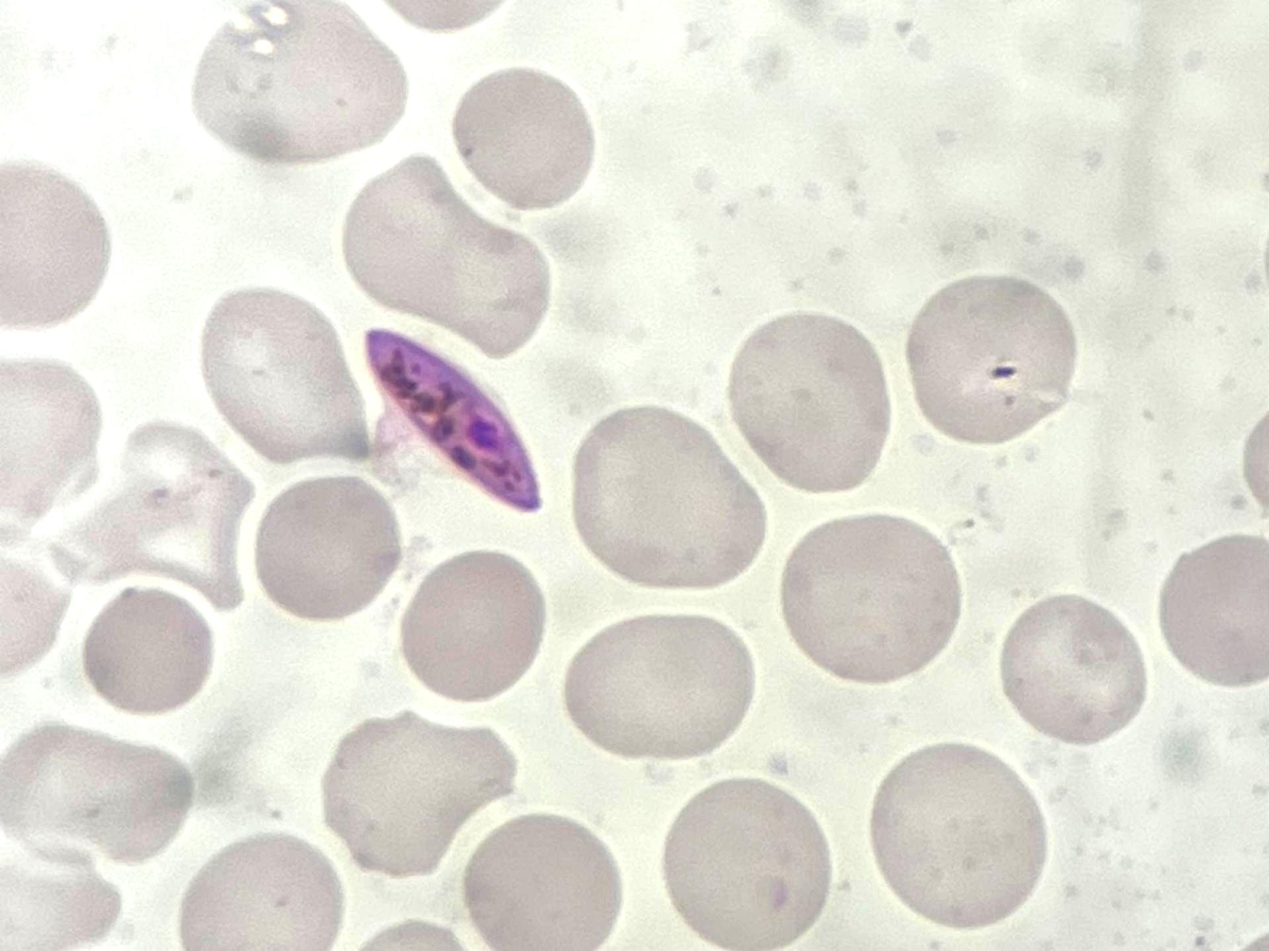Infected: (355, 322, 539, 524)
Uninfected: (344, 155, 555, 351), (568, 402, 768, 596), (183, 3, 414, 157), (872, 739, 1047, 932), (780, 512, 968, 686), (324, 714, 518, 880), (727, 314, 894, 496), (203, 283, 360, 473), (661, 781, 825, 951), (908, 276, 1071, 445), (560, 618, 756, 758), (0, 721, 189, 862), (253, 472, 405, 619), (463, 818, 624, 951), (452, 73, 602, 215), (401, 556, 545, 700), (1002, 596, 1143, 743), (176, 833, 348, 951), (1156, 538, 1269, 686), (82, 585, 213, 708)
